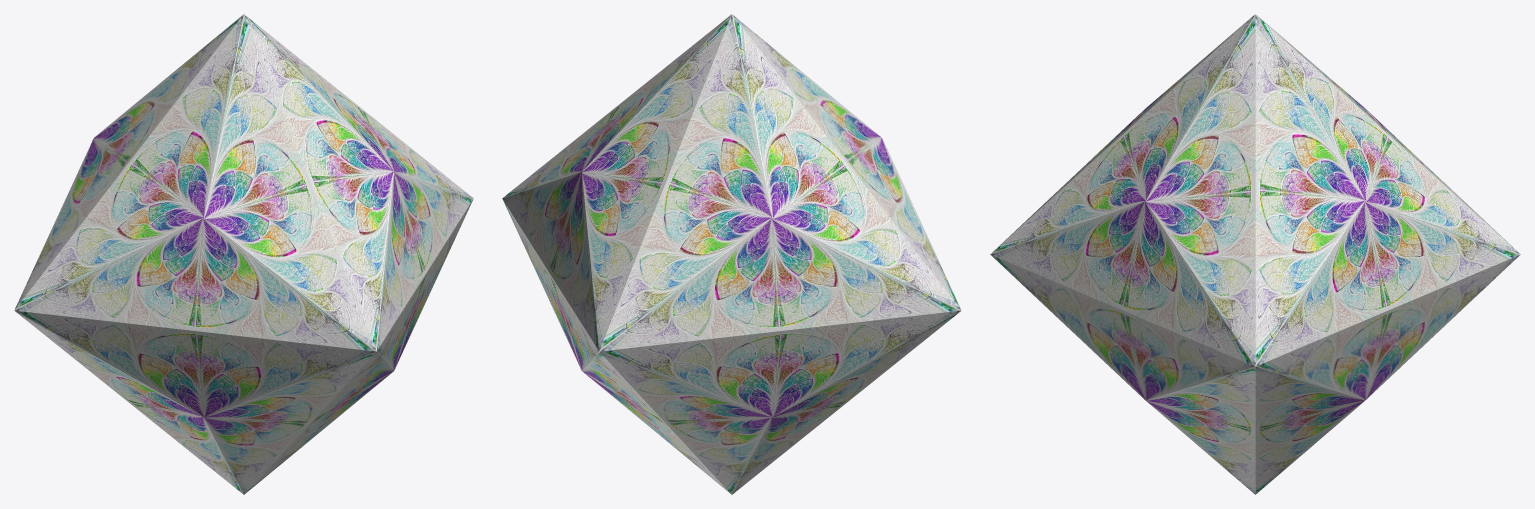
File: TriakisOctahedron11.obj
3 renders of one model, left to right at view 1: azimuth 30°, elevation 25°; view 2: azimuth 150°, elevation 25°; view 3: azimuth 270°, elevation 25°, orthographic.
Size of the model in its own units: 4.83 by 4.83 by 4.83.
1 material, 1 textured.
